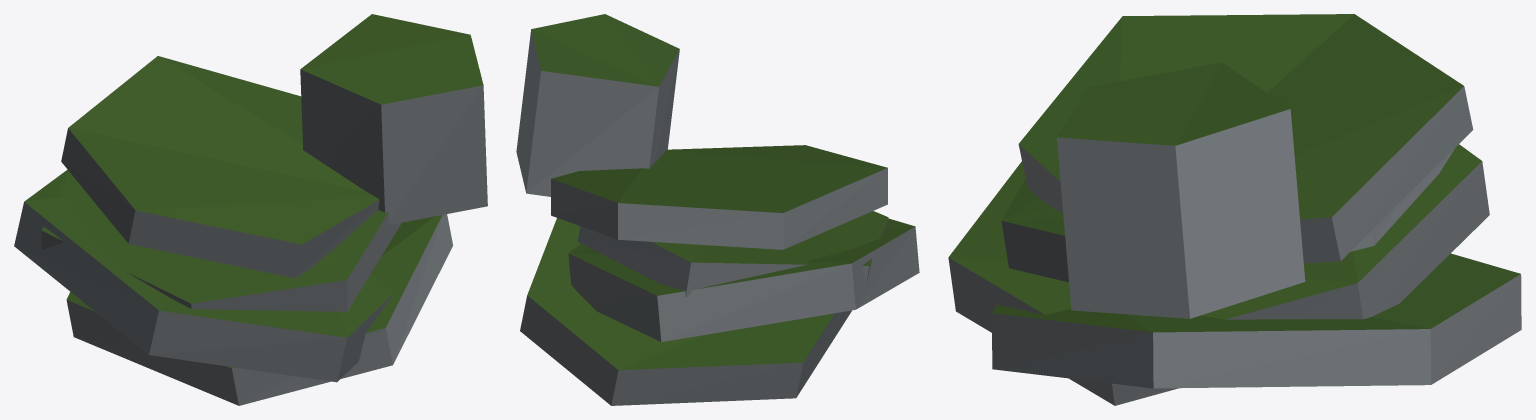
File: rock.slab__stacked__spring.glb
The picture shows the model from 3 angles, left to right: view 1: azimuth 30°, elevation 25°; view 2: azimuth 150°, elevation 25°; view 3: azimuth 270°, elevation 25°; orthographic projection. The views are drawn at different scales.
Parts seen in each view (by area): view 1: rock.slab; view 2: rock.slab; view 3: rock.slab.
Boxes of the visible parts, box(x1,y1,x2,y2) form: rock.slab: box(14, 14, 487, 405); rock.slab: box(516, 14, 919, 405); rock.slab: box(948, 14, 1521, 405).
Bounding box in the file's own units: 2.31 × 1.43 × 2.15.
